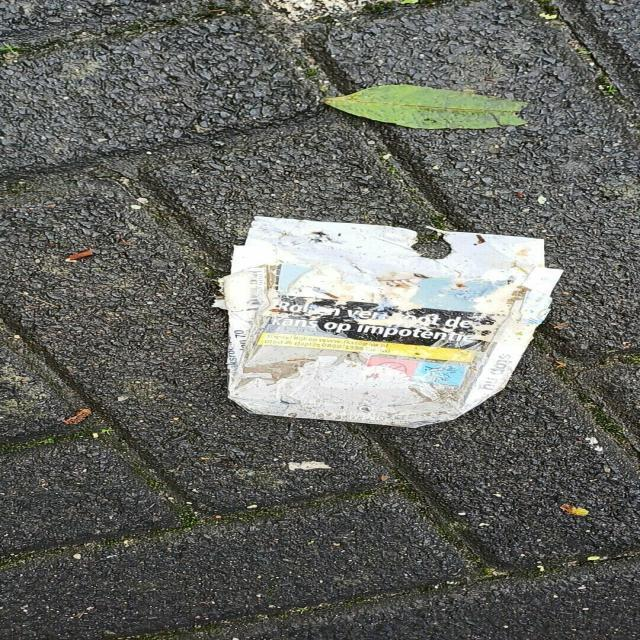Paper: (206, 214, 568, 431)
